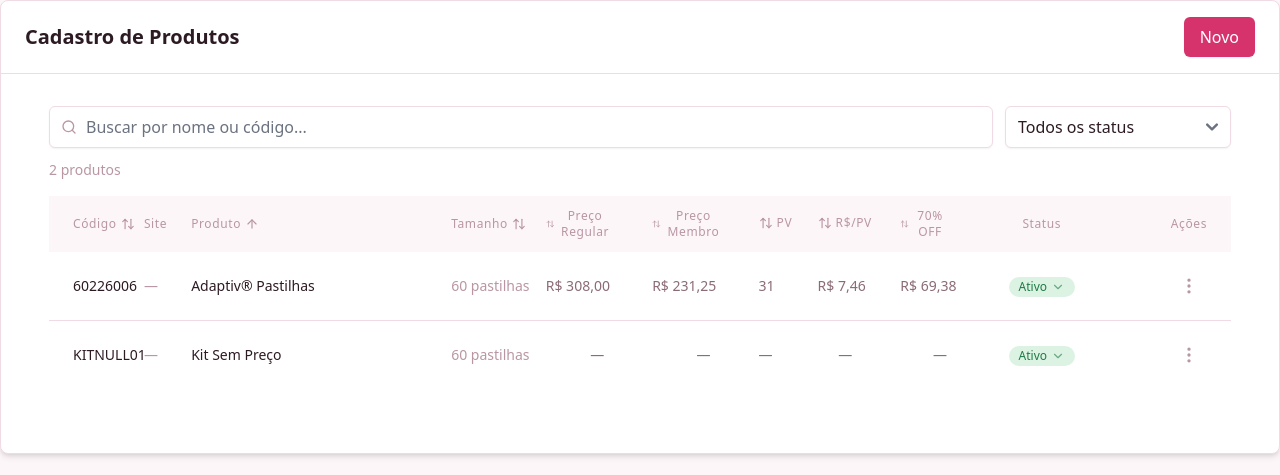
Scenario: ProductsPage › Products List › should keep filtering by name working when a product has null prices
The image size is (1280, 475).
expect the button "Adaptiv® Pastilhas" is shown: met, box [191,276,315,296]
Type "Kit" into the field with placeholder "Buscar por nome ou código...".
click(521, 127); type("Kit")  # box [49,106,993,148]
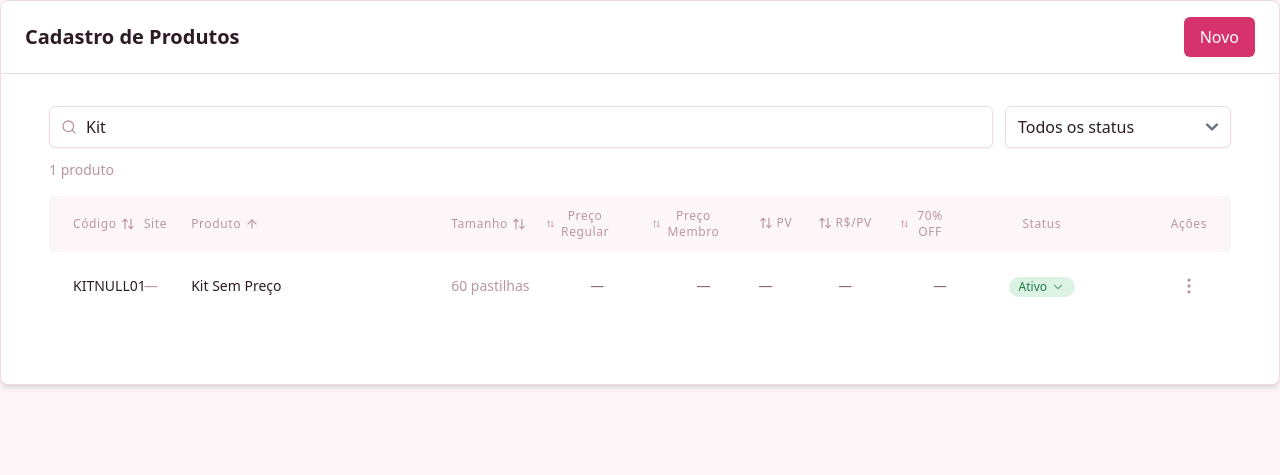
expect the button "Kit Sem Preço" is shown: met, box [191,276,282,296]
expect the button "Adaptiv® Pastilhas" is gone: met
